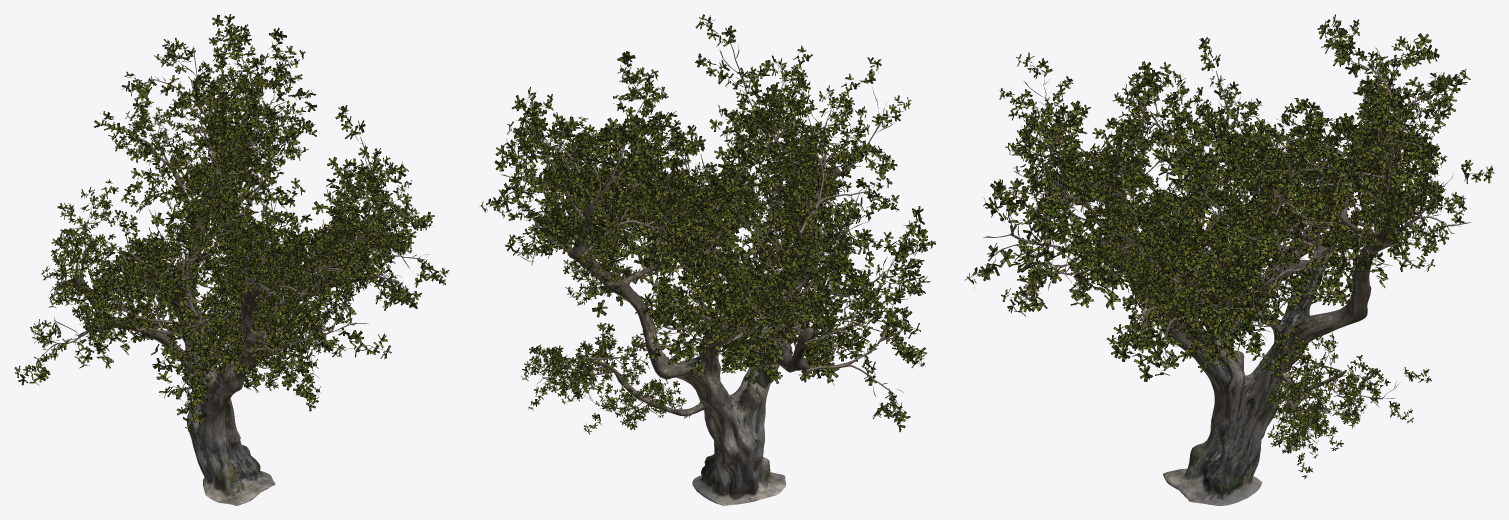
Rendered from island_tree_01.gltf.
The picture shows the model from 3 angles, left to right: view 1: azimuth 30°, elevation 25°; view 2: azimuth 150°, elevation 25°; view 3: azimuth 270°, elevation 25°; orthographic projection. The views are drawn at different scales.
Parts seen in each view (by area): view 1: island_tree_01_LOD0; view 2: island_tree_01_LOD0; view 3: island_tree_01_LOD0.
Part boxes in pixels (<box>): island_tree_01_LOD0: <box>14,14,449,505</box>; island_tree_01_LOD0: <box>479,14,935,505</box>; island_tree_01_LOD0: <box>965,14,1494,505</box>.
Size of the model in its own units: 4.76 by 5.03 by 4.82.
3 materials, 3 textured.
